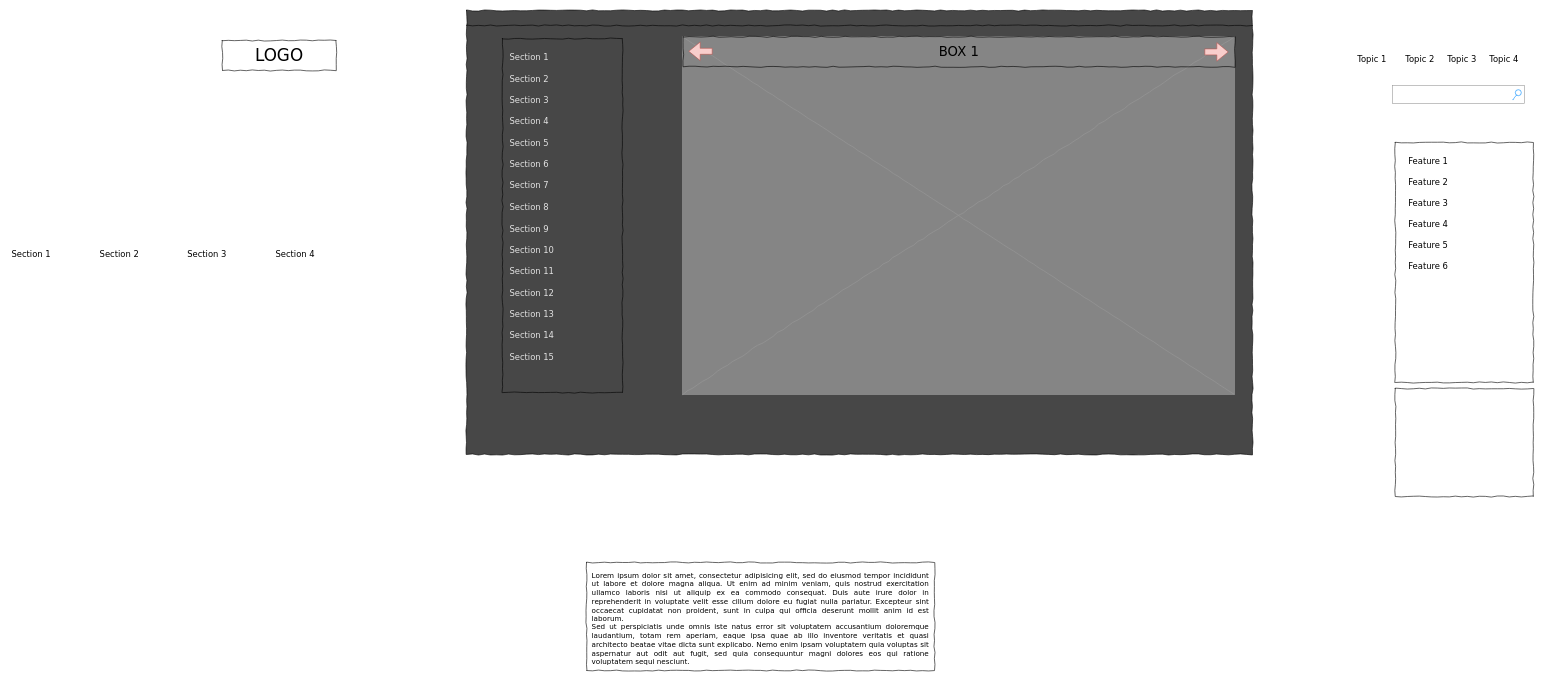
Image size: 1544x681. Some labels were removed from this diagram. The box of each missing label's shape, as (x1, y1, x2, y2) in pixels:
External Links: (1395, 388, 1533, 496)
Search: (1392, 85, 1524, 104)
